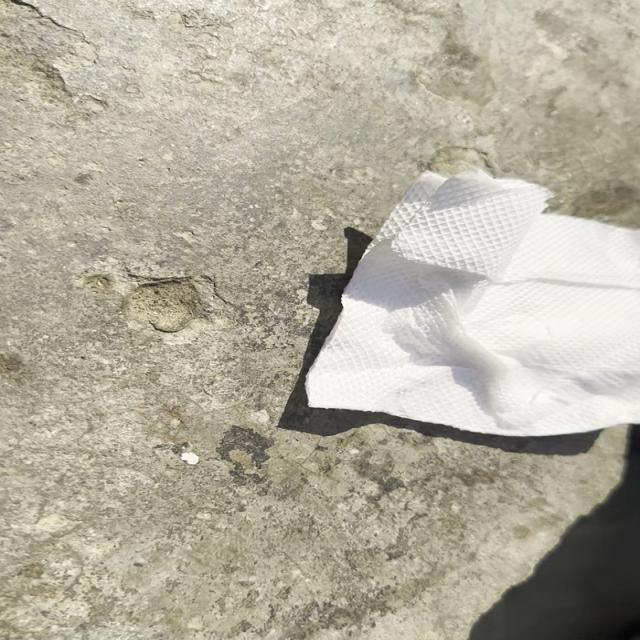tissue: (289, 164, 640, 437)
